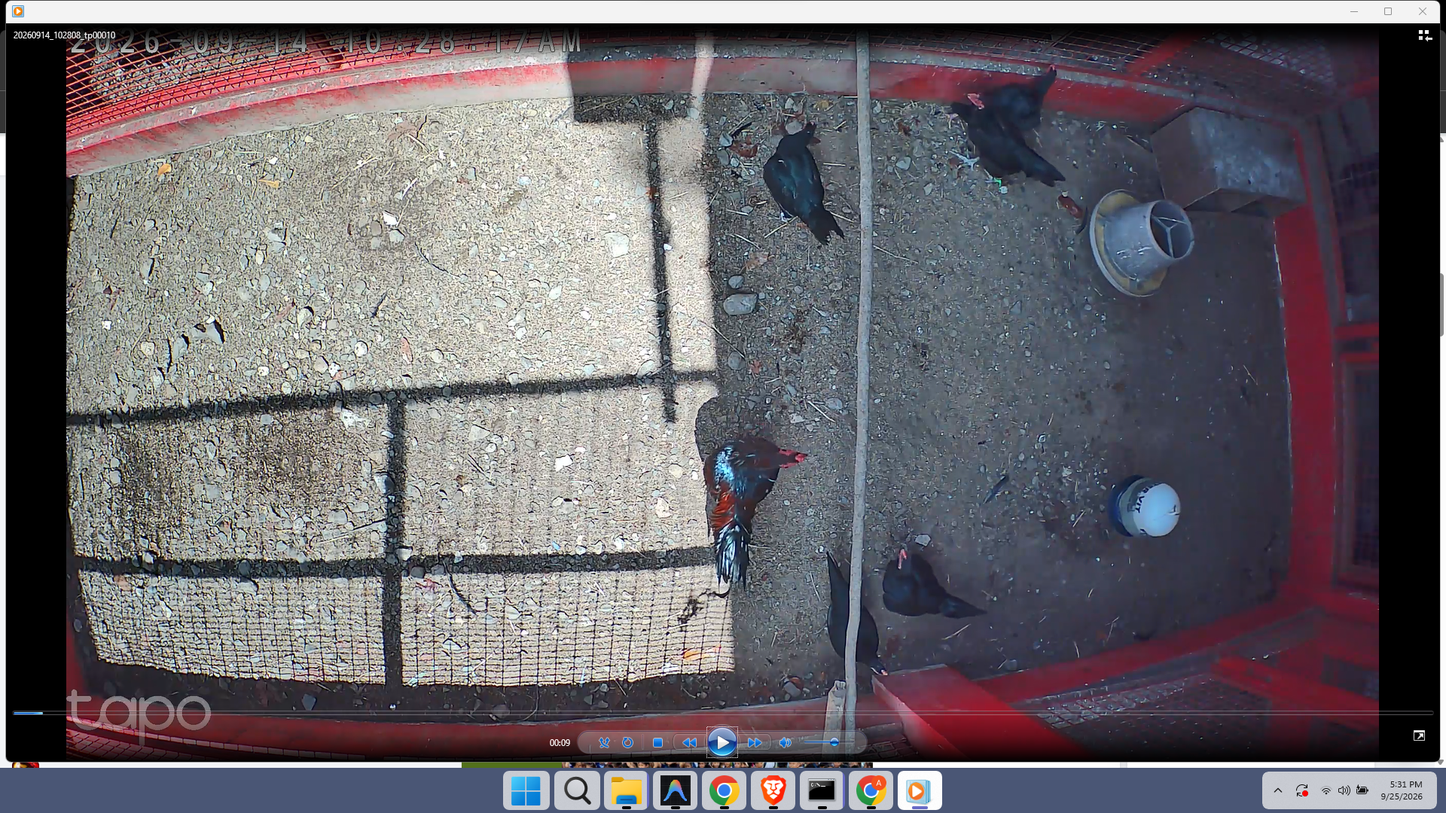Chicken: (950, 92, 1068, 194), (762, 122, 847, 247), (816, 549, 894, 677), (884, 541, 989, 621), (940, 62, 1059, 130)
Drinker: (1108, 470, 1182, 538)
Feeder: (1088, 186, 1195, 297)
Rooster: (701, 432, 806, 593)
